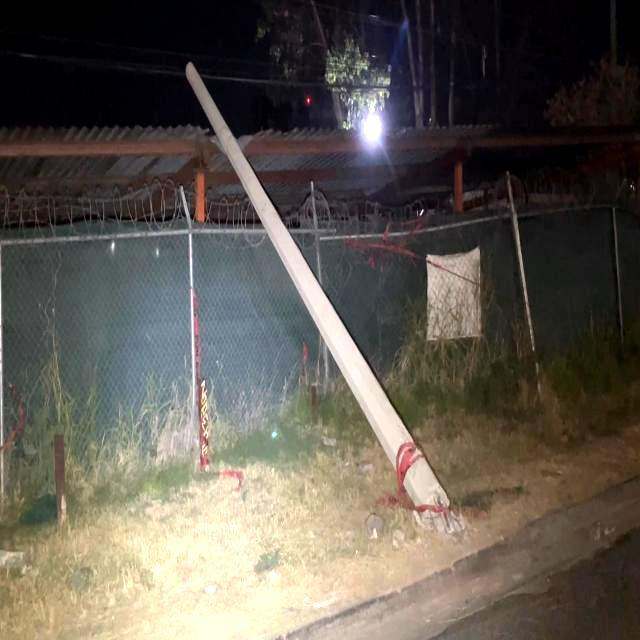Broken Pole: (184, 58, 449, 514)
